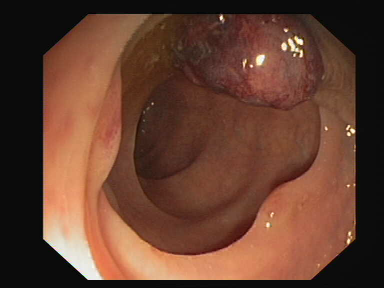polyp: (186, 9, 324, 129)
